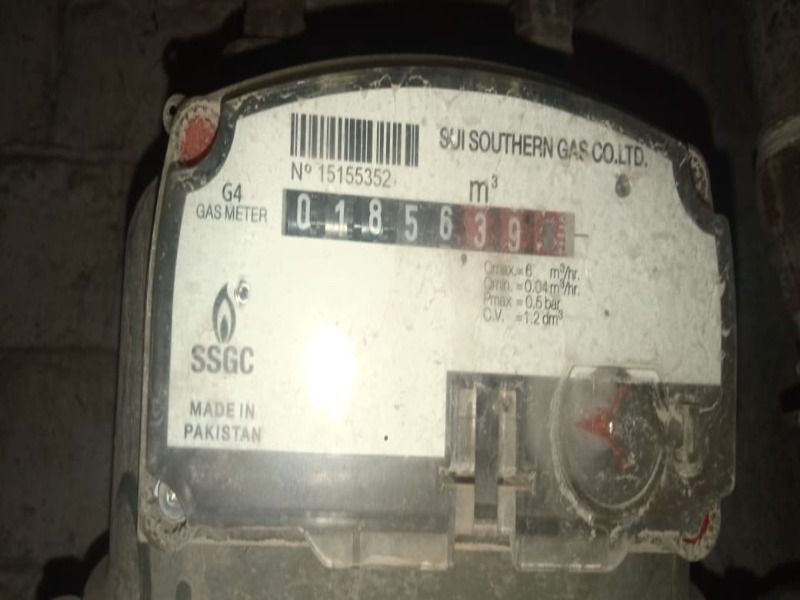ssgc: (275, 185, 576, 259)
